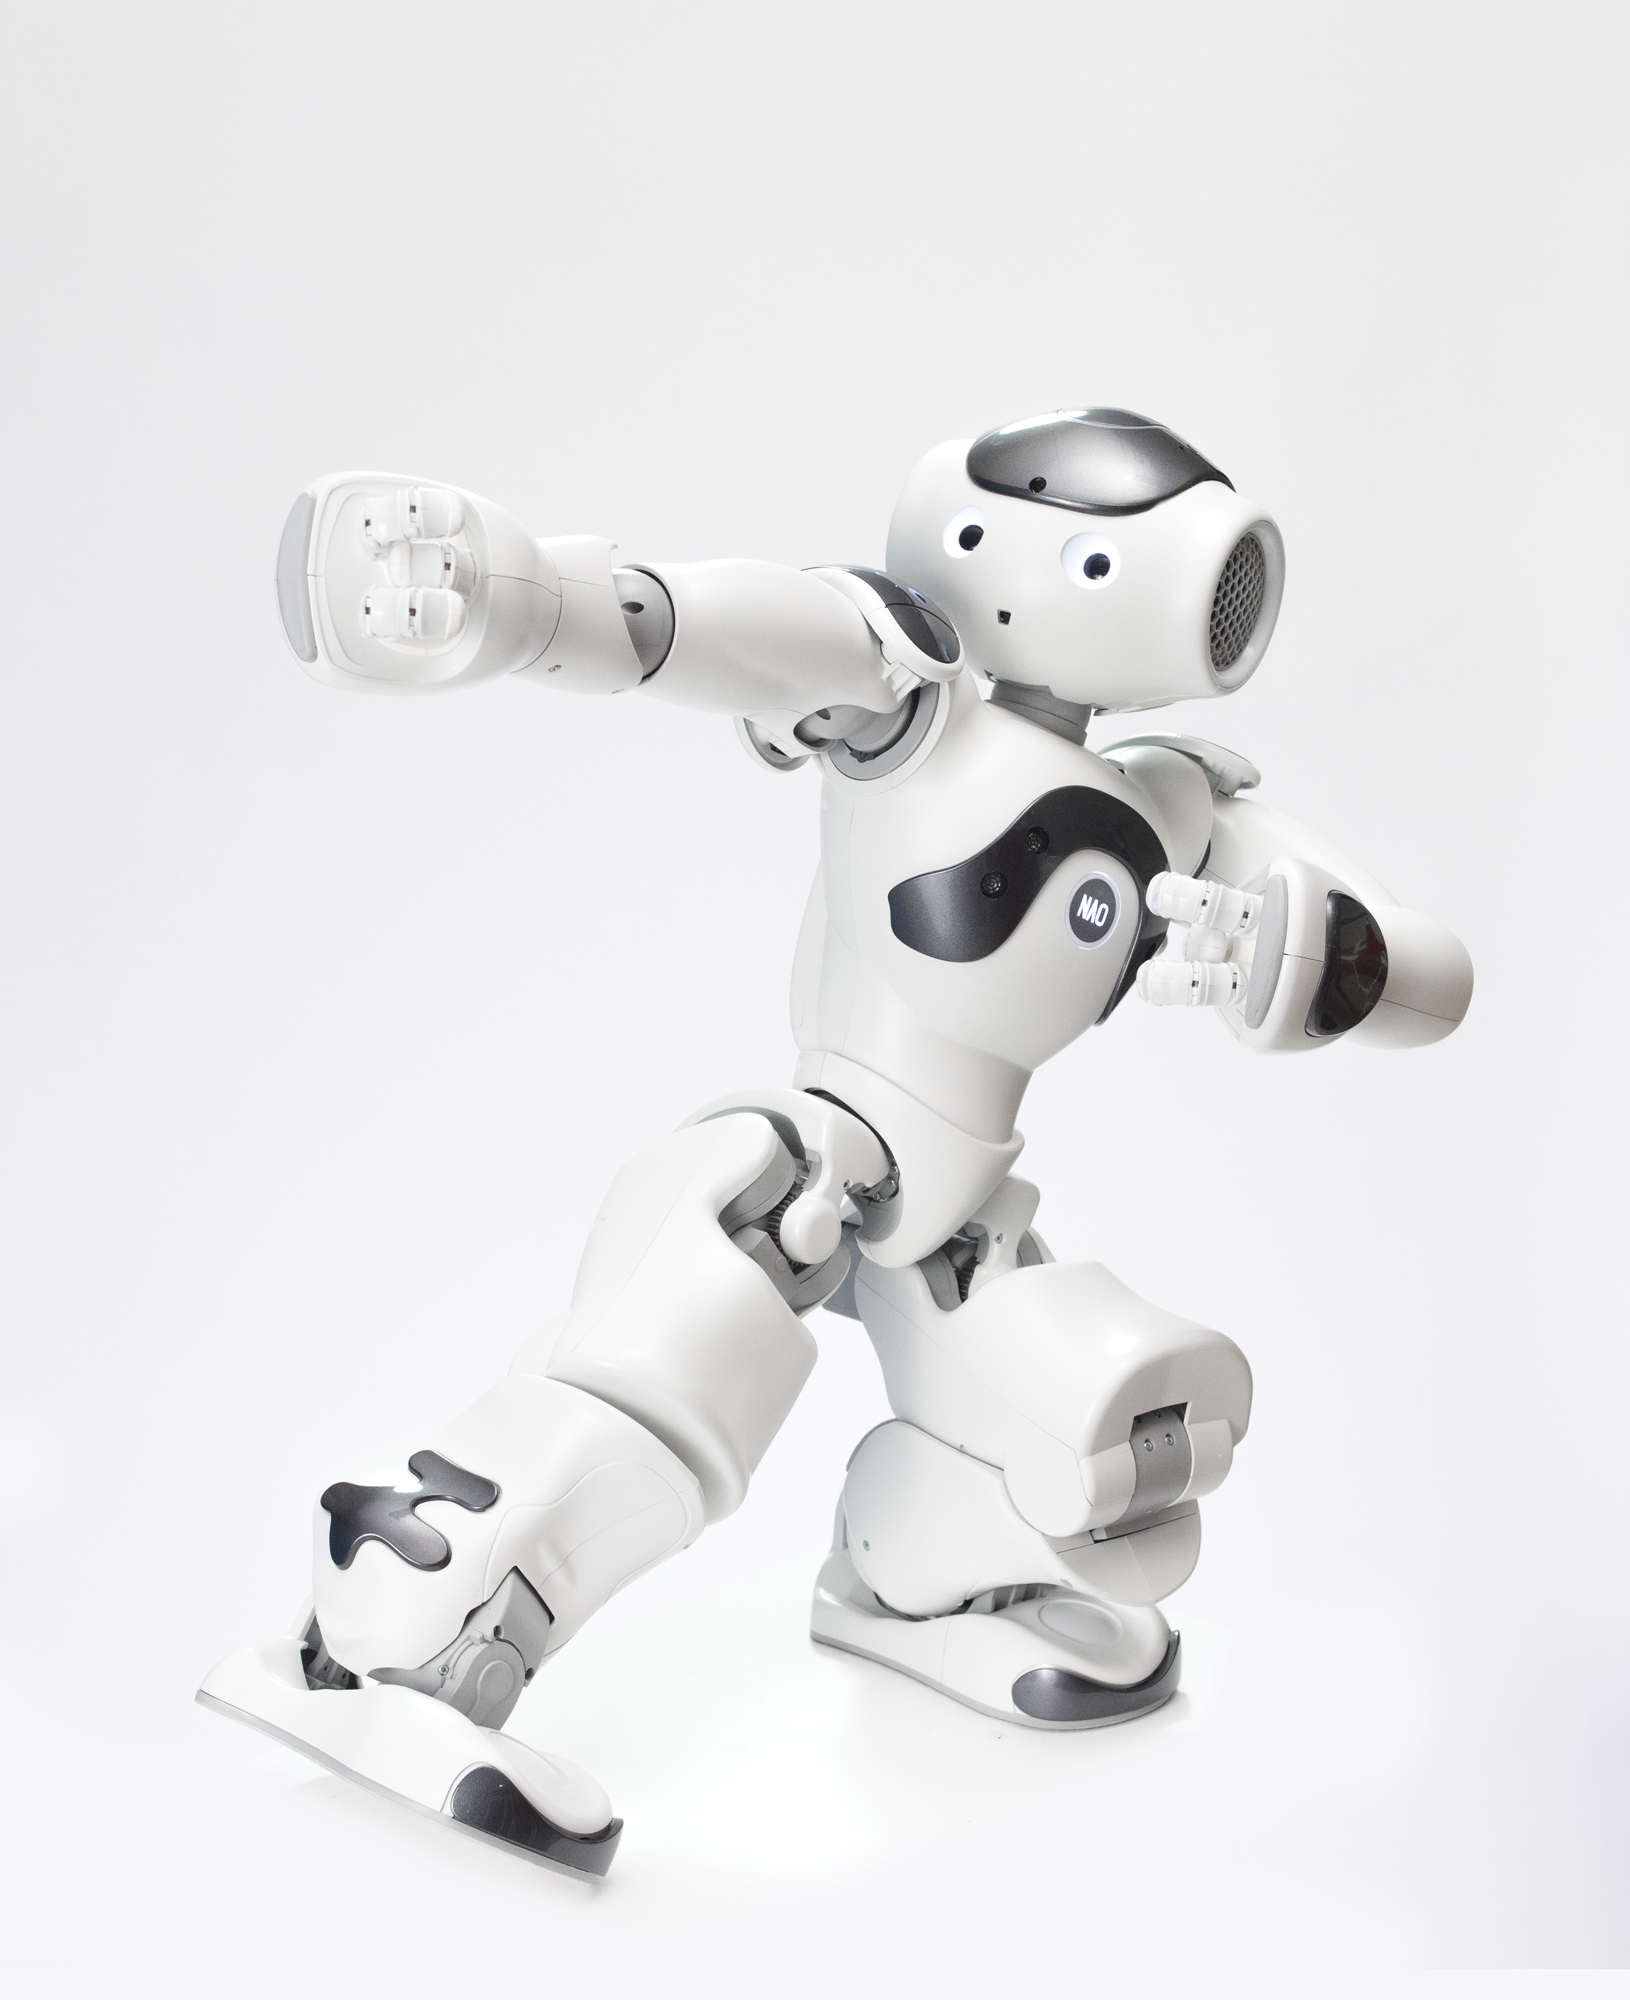nao: (178, 382, 1509, 1909)
